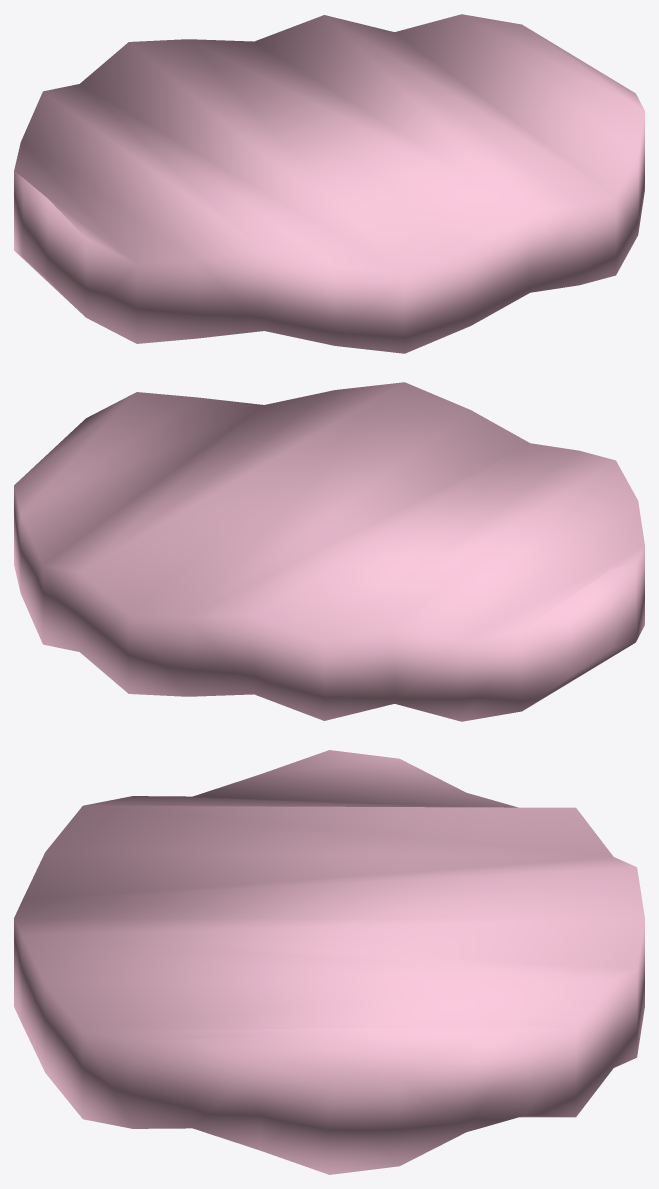
File: SM64_ClamValve.fbx
The picture shows the model from 3 angles, top to bottom: view 1: azimuth 30°, elevation 25°; view 2: azimuth 150°, elevation 25°; view 3: azimuth 270°, elevation 25°; orthographic projection. The views are drawn at different scales.
Parts seen in each view (by area): view 1: ScallopShellValve; view 2: ScallopShellValve; view 3: ScallopShellValve.
Boxes of the visible parts, x1,y1,x2,y2 form: ScallopShellValve: [14, 14, 644, 353]; ScallopShellValve: [14, 382, 644, 721]; ScallopShellValve: [14, 750, 644, 1174].
Bounding box in the file's own units: 3.11 × 0.578 × 2.7.
